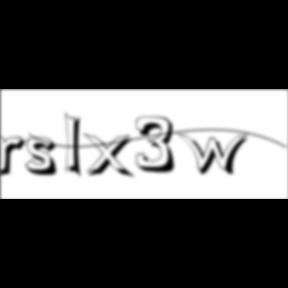3: (136, 116, 182, 176)
I: (65, 110, 89, 182)
r: (1, 134, 34, 180)
s: (26, 137, 64, 179)
w: (178, 132, 256, 178)
x: (84, 132, 138, 181)
